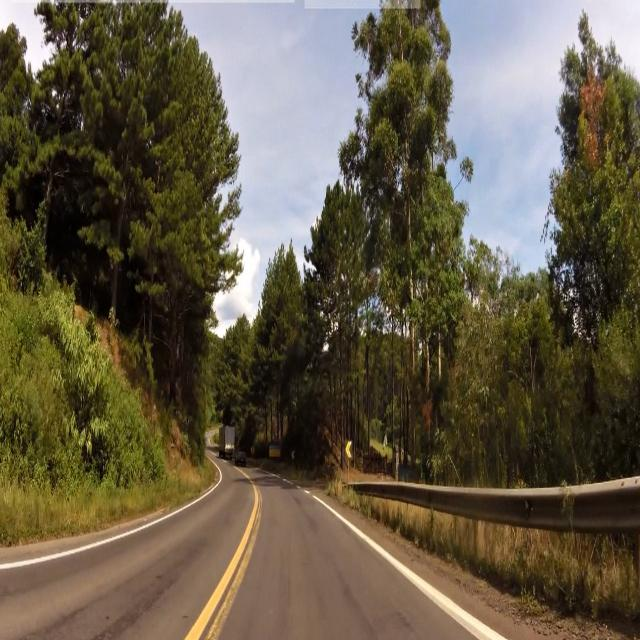Del: (344, 439, 354, 460)
